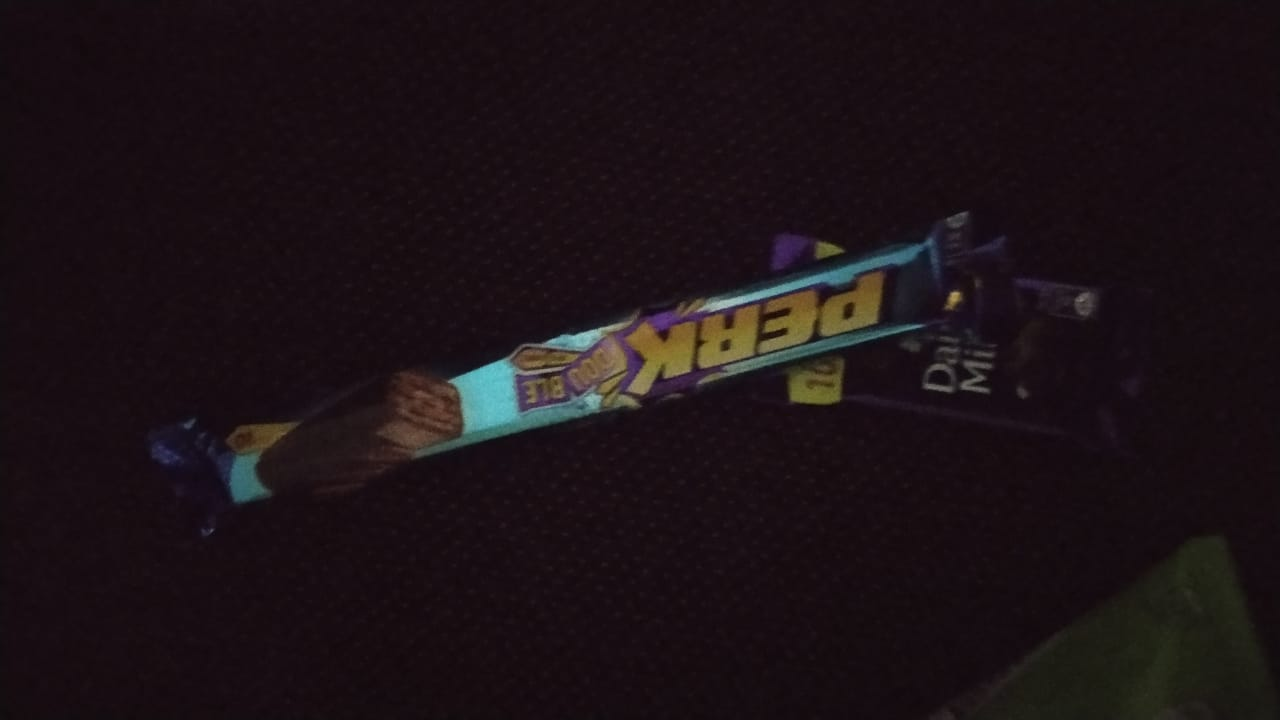perk: (177, 188, 948, 484)
